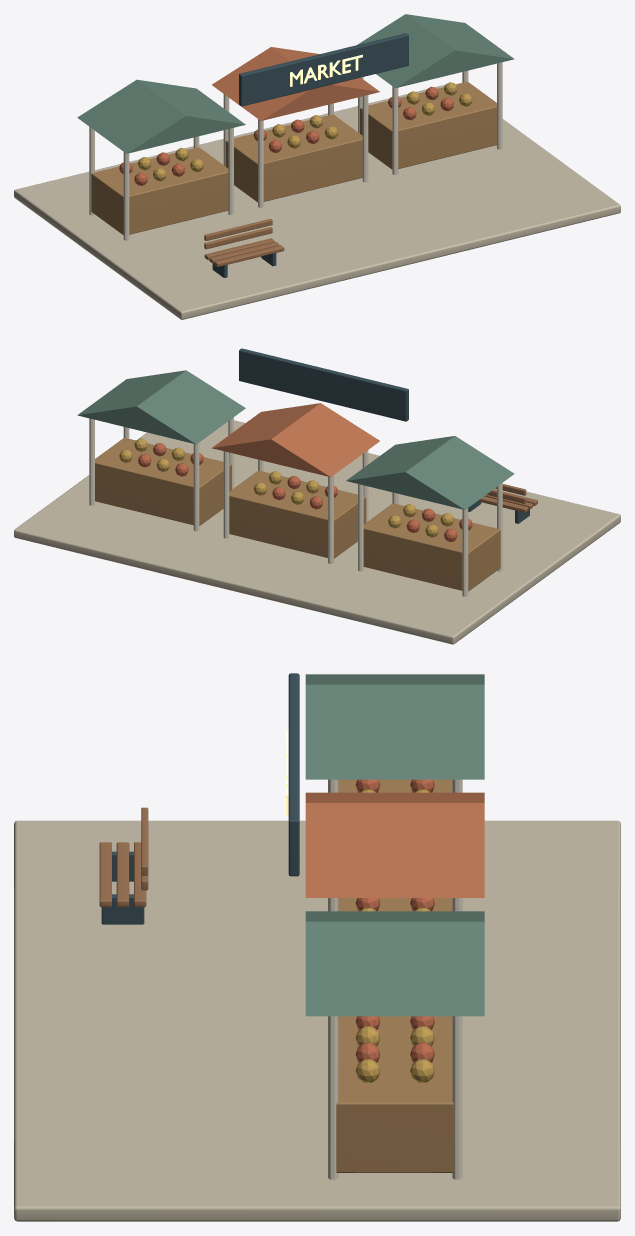
Rendered from market.glb.
The picture shows the model from 3 angles, top to bottom: view 1: azimuth 30°, elevation 25°; view 2: azimuth 150°, elevation 25°; view 3: azimuth 270°, elevation 25°; orthographic projection. The views are drawn at different scales.
Parts seen in each view (by area): view 1: market_Site_Paving.001, market_Market_Counter.003, market_Market_Counter.004, market_Market_Counter.005, market_Gable_Roof.003, market_Gable_Roof.005, market_Sign_Backplate.001, market_Gable_Roof.004, market_Lettering_MARKET.001, market_Stall_Post.013, market_Stall_Post.021, market_Stall_Post.019 (+6 smaller); view 2: market_Site_Paving.001, market_Market_Counter.003, market_Market_Counter.005, market_Market_Counter.004, market_Gable_Roof.004, market_Gable_Roof.003, market_Gable_Roof.005, market_Sign_Backplate.001, market_Stall_Post.012, market_Stall_Post.020, market_Stall_Post.018, market_Stall_Post.016 (+2 smaller); view 3: market_Site_Paving.001, market_Gable_Roof.003, market_Gable_Roof.004, market_Gable_Roof.005, market_Market_Counter.005, market_Sign_Backplate.001, market_Stall_Post.023, market_Stall_Post.022, market_Market_Counter.004, market_Market_Counter.003, market_Bench_Leg.003, market_Bench_Slat.004 (+1 smaller).
Boxes of the visible parts, x1,y1,x2,y2 form: market_Site_Paving.001: (14,84,620,319); market_Market_Counter.003: (91,147,228,235); market_Market_Counter.004: (225,114,362,202); market_Market_Counter.005: (360,81,496,169); market_Gable_Roof.003: (77,79,245,153); market_Gable_Roof.005: (357,14,514,88); market_Sign_Backplate.001: (239,33,408,106); market_Gable_Roof.004: (212,47,379,120); market_Lettering_MARKET.001: (290,54,362,86); market_Stall_Post.013: (123,152,129,240); market_Stall_Post.021: (392,86,398,174); market_Stall_Post.019: (362,95,368,182); market_Site_Paving.001: (14,420,620,644); market_Market_Counter.003: (363,503,500,591); market_Market_Counter.005: (95,438,231,525); market_Market_Counter.004: (229,470,366,558); market_Gable_Roof.004: (211,403,379,477); market_Gable_Roof.003: (346,436,514,509); market_Gable_Roof.005: (77,370,245,444); market_Sign_Backplate.001: (239,348,408,421); market_Stall_Post.012: (462,508,468,596); market_Stall_Post.020: (193,443,199,531); market_Stall_Post.018: (223,451,229,538); market_Stall_Post.016: (328,475,333,563); market_Site_Paving.001: (14,820,620,1221); market_Gable_Roof.003: (305,674,484,779); market_Gable_Roof.004: (305,792,484,897); market_Gable_Roof.005: (305,911,484,1016); market_Market_Counter.005: (336,1016,454,1172); market_Sign_Backplate.001: (288,673,299,876); market_Stall_Post.023: (328,1016,338,1179); market_Stall_Post.022: (452,1016,462,1179); market_Market_Counter.004: (338,898,452,911); market_Market_Counter.003: (338,779,452,792); market_Bench_Leg.003: (101,894,144,924); market_Bench_Slat.004: (116,842,129,907).
Bounding box in the file's own units: 11.8 × 4 × 7.8.
